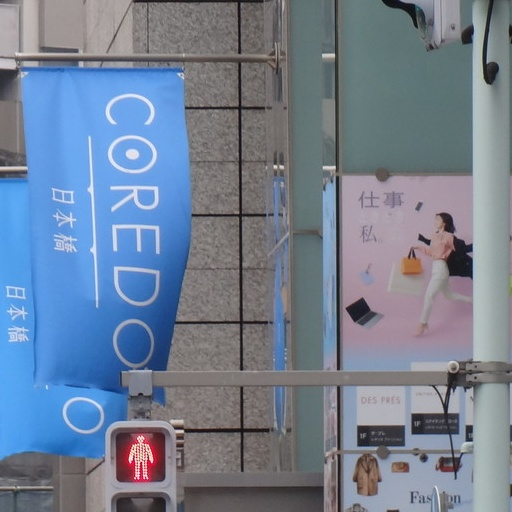Pedestrian_Signal_Red: (98, 411, 183, 505)
